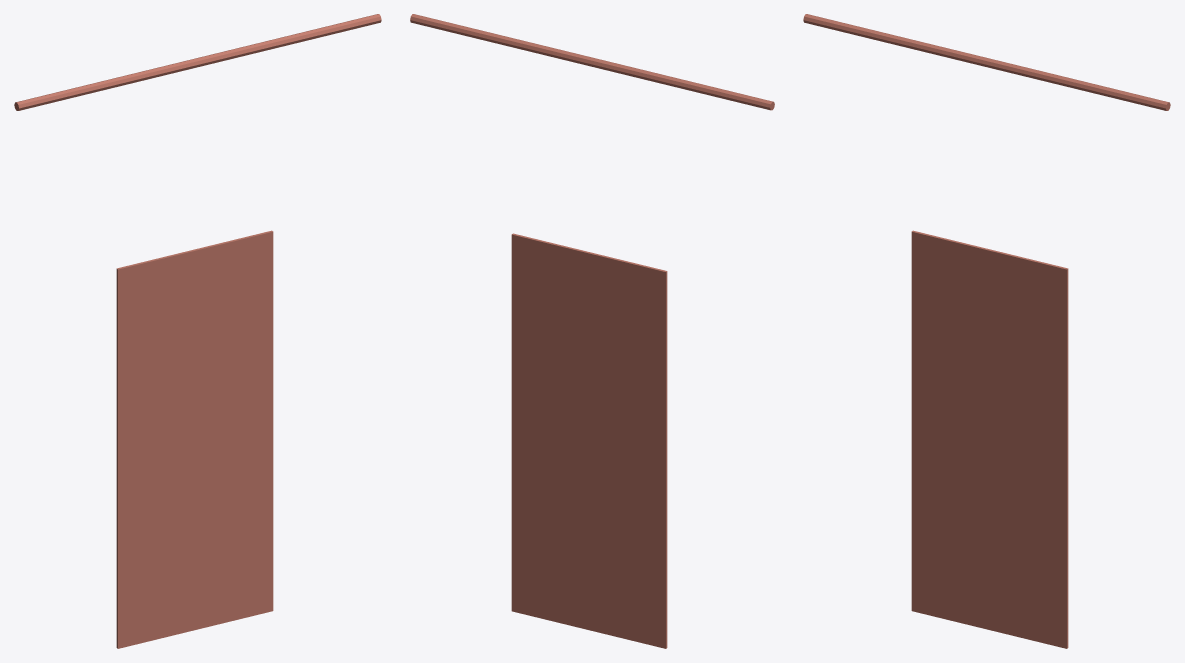
Rendered from curtain.glb.
3 renders of one model, left to right at view 1: azimuth 30°, elevation 25°; view 2: azimuth 150°, elevation 25°; view 3: azimuth 330°, elevation 25°, orthographic.
Parts seen in each view (by area): view 1: curtain; view 2: curtain; view 3: curtain.
Boxes of the visible parts, left/top/right/bottom form: curtain: left=14, top=14, right=381, bottom=648; curtain: left=410, top=14, right=774, bottom=648; curtain: left=803, top=14, right=1170, bottom=648.
Size of the model in its own units: 0.7 by 1.06 by 0.0205.
